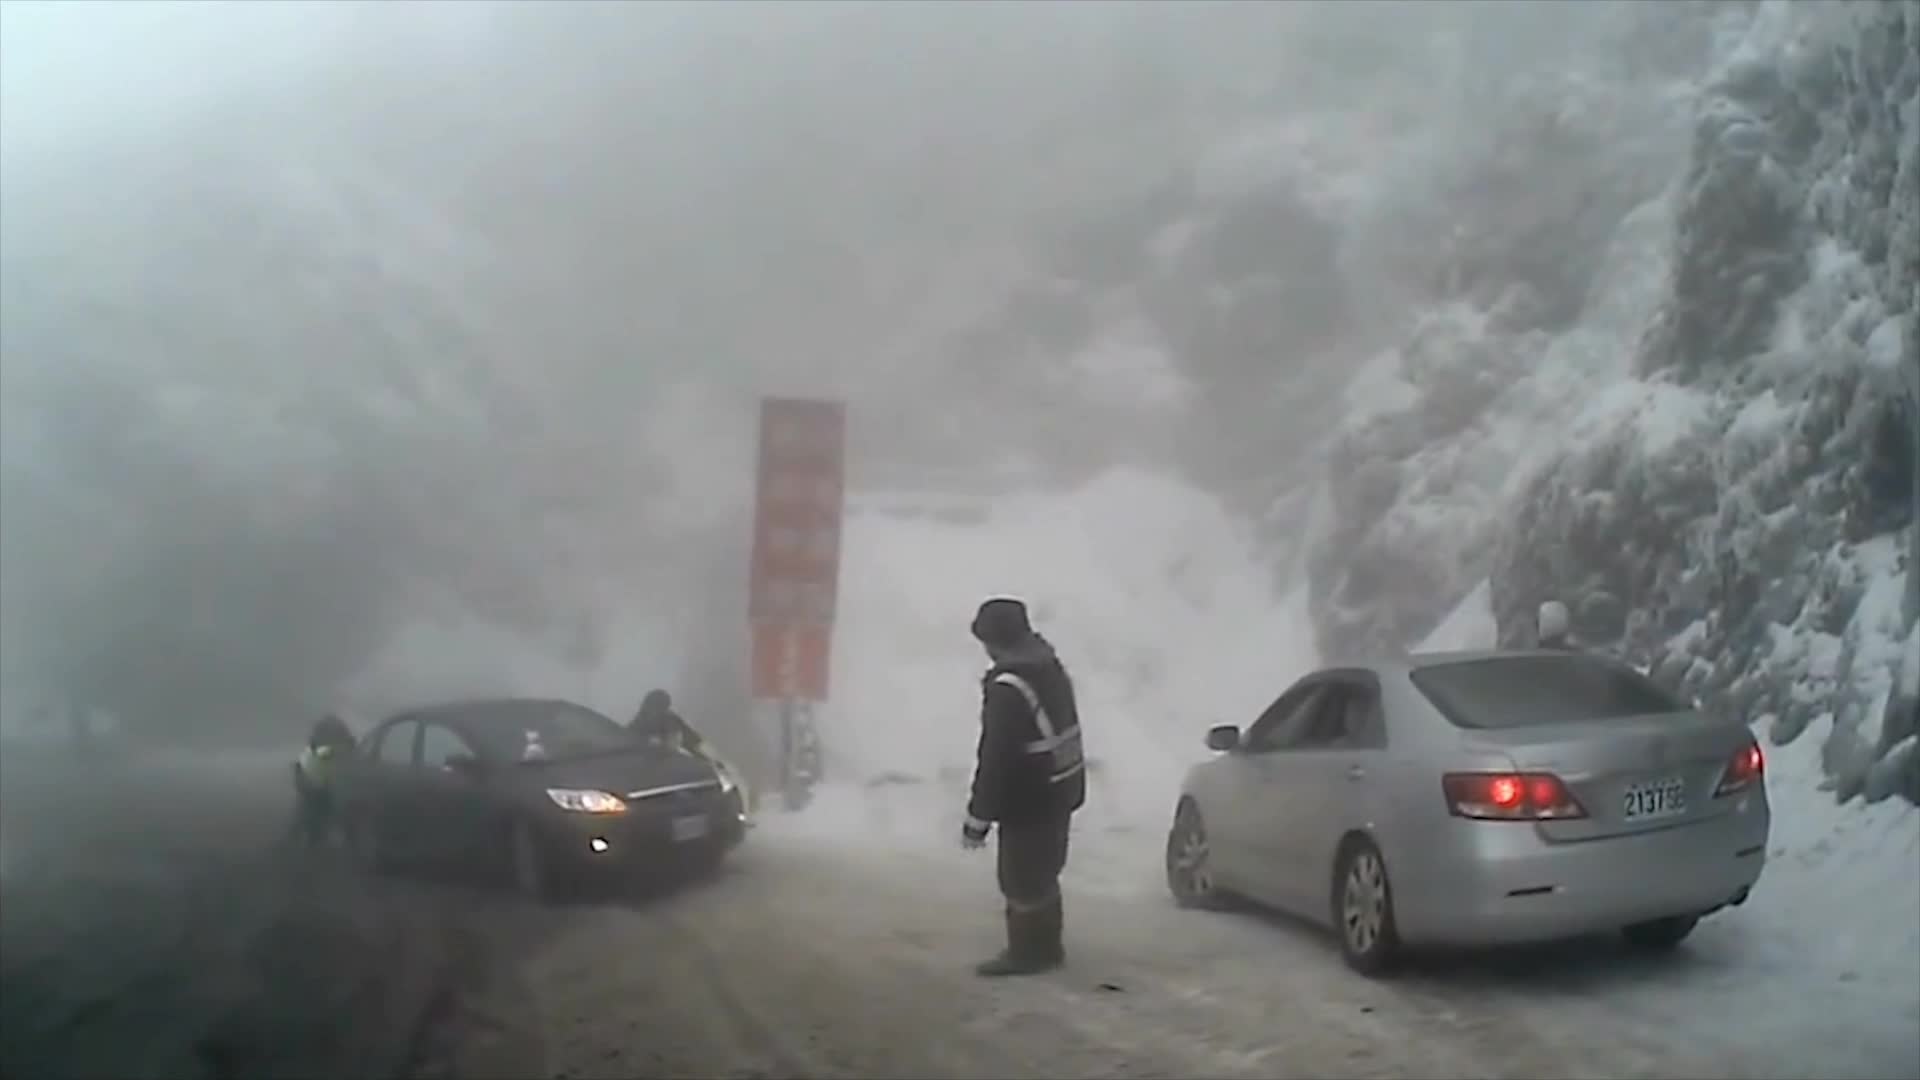pedestrian: (958, 596, 1087, 973), (1516, 593, 1608, 838), (632, 687, 716, 818), (284, 718, 358, 852)
vehicle: (1161, 641, 1767, 969), (326, 694, 749, 905)
